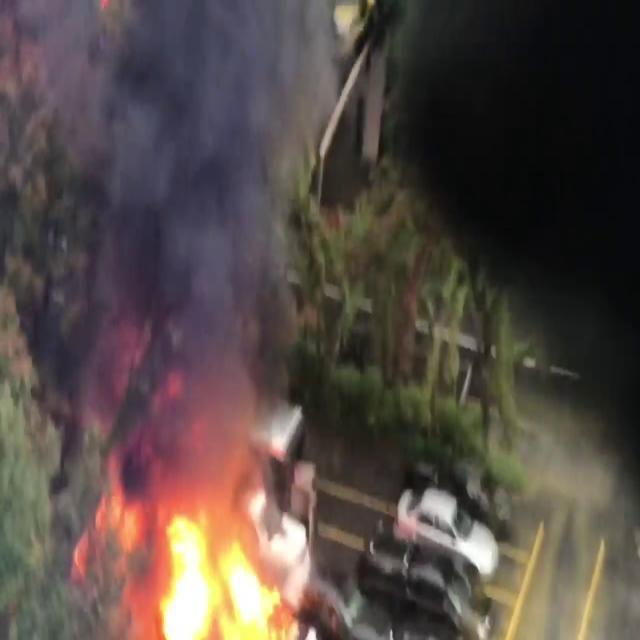Fire: (125, 487, 298, 639)
Smoke: (9, 0, 338, 447), (394, 0, 640, 580)
